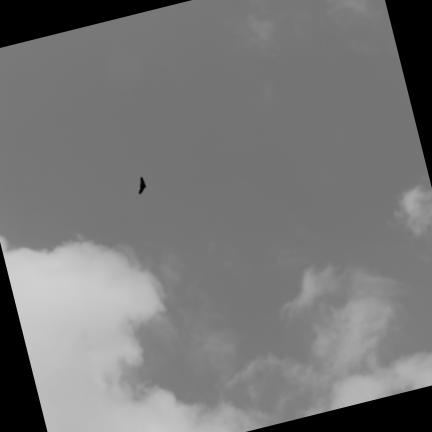Shahed: (138, 176, 145, 193)
